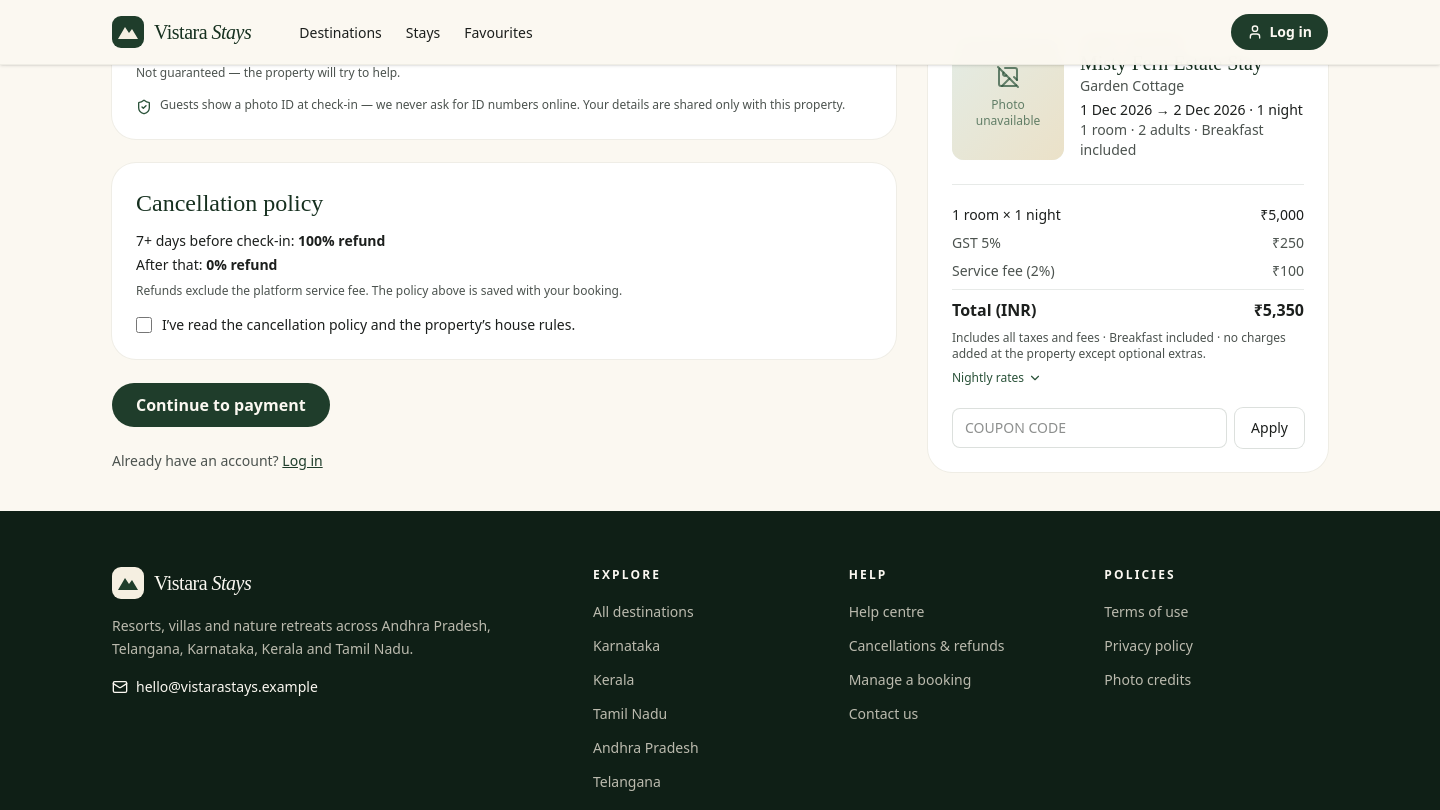
Test: checkout › validates the four details before contacting the server
(page scrolled)
Expected: the text "₹5,350" is shown, [1254, 297, 1304, 321]
Click the button "Continue to payment".
click(221, 405)  # box [112, 383, 330, 427]
(page scrolled)
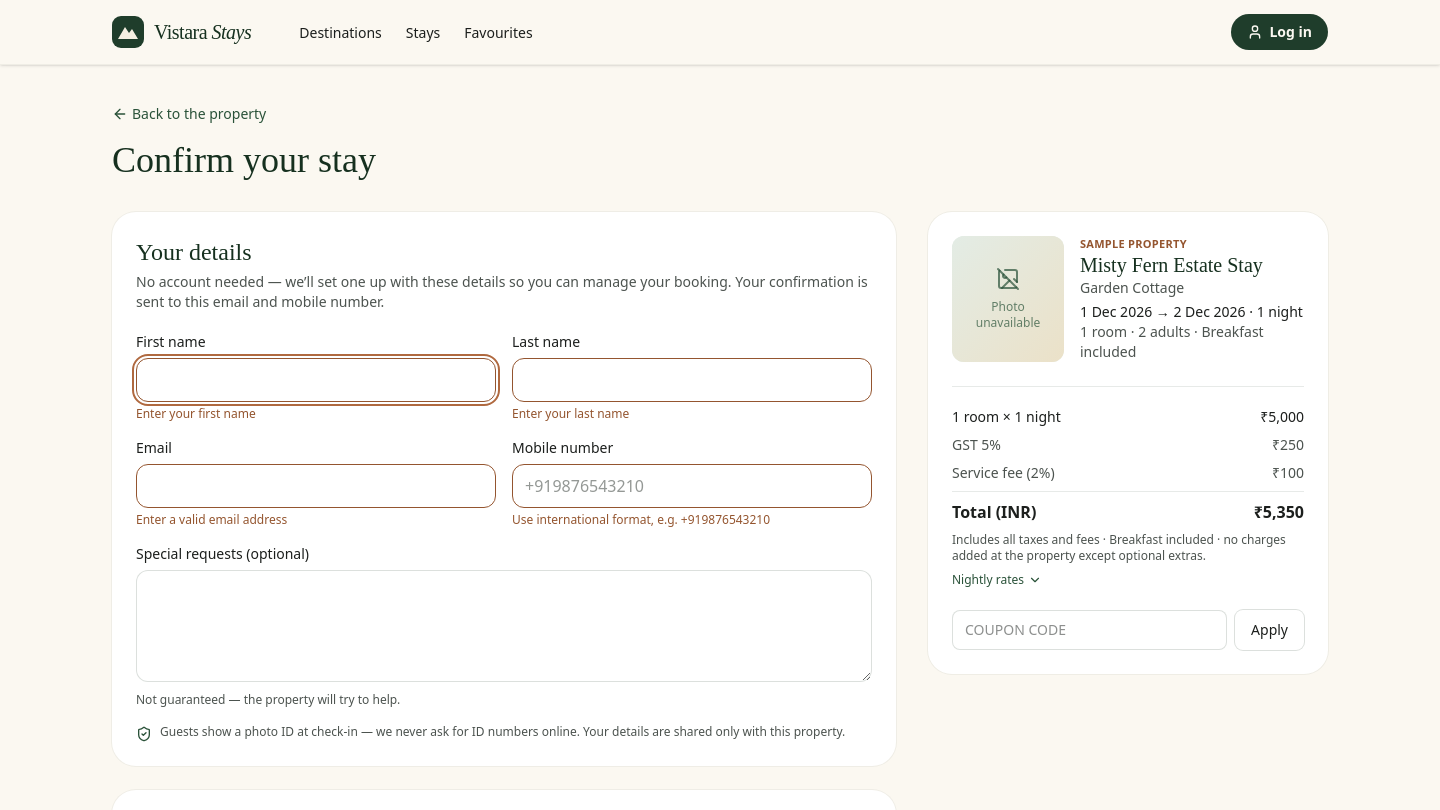
Expected: the text "Enter your first name" is shown, [136, 405, 256, 422]
Expected: the text "Enter your last name" is shown, [512, 405, 629, 422]
